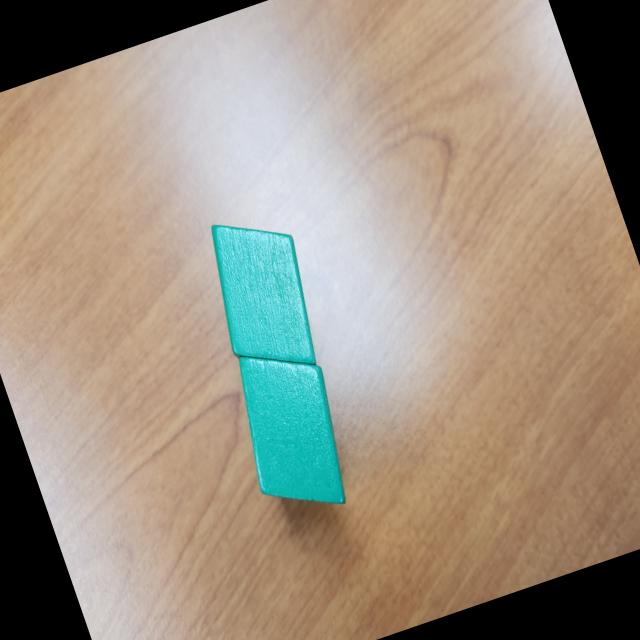green: (215, 330, 369, 530), (188, 200, 336, 390)
